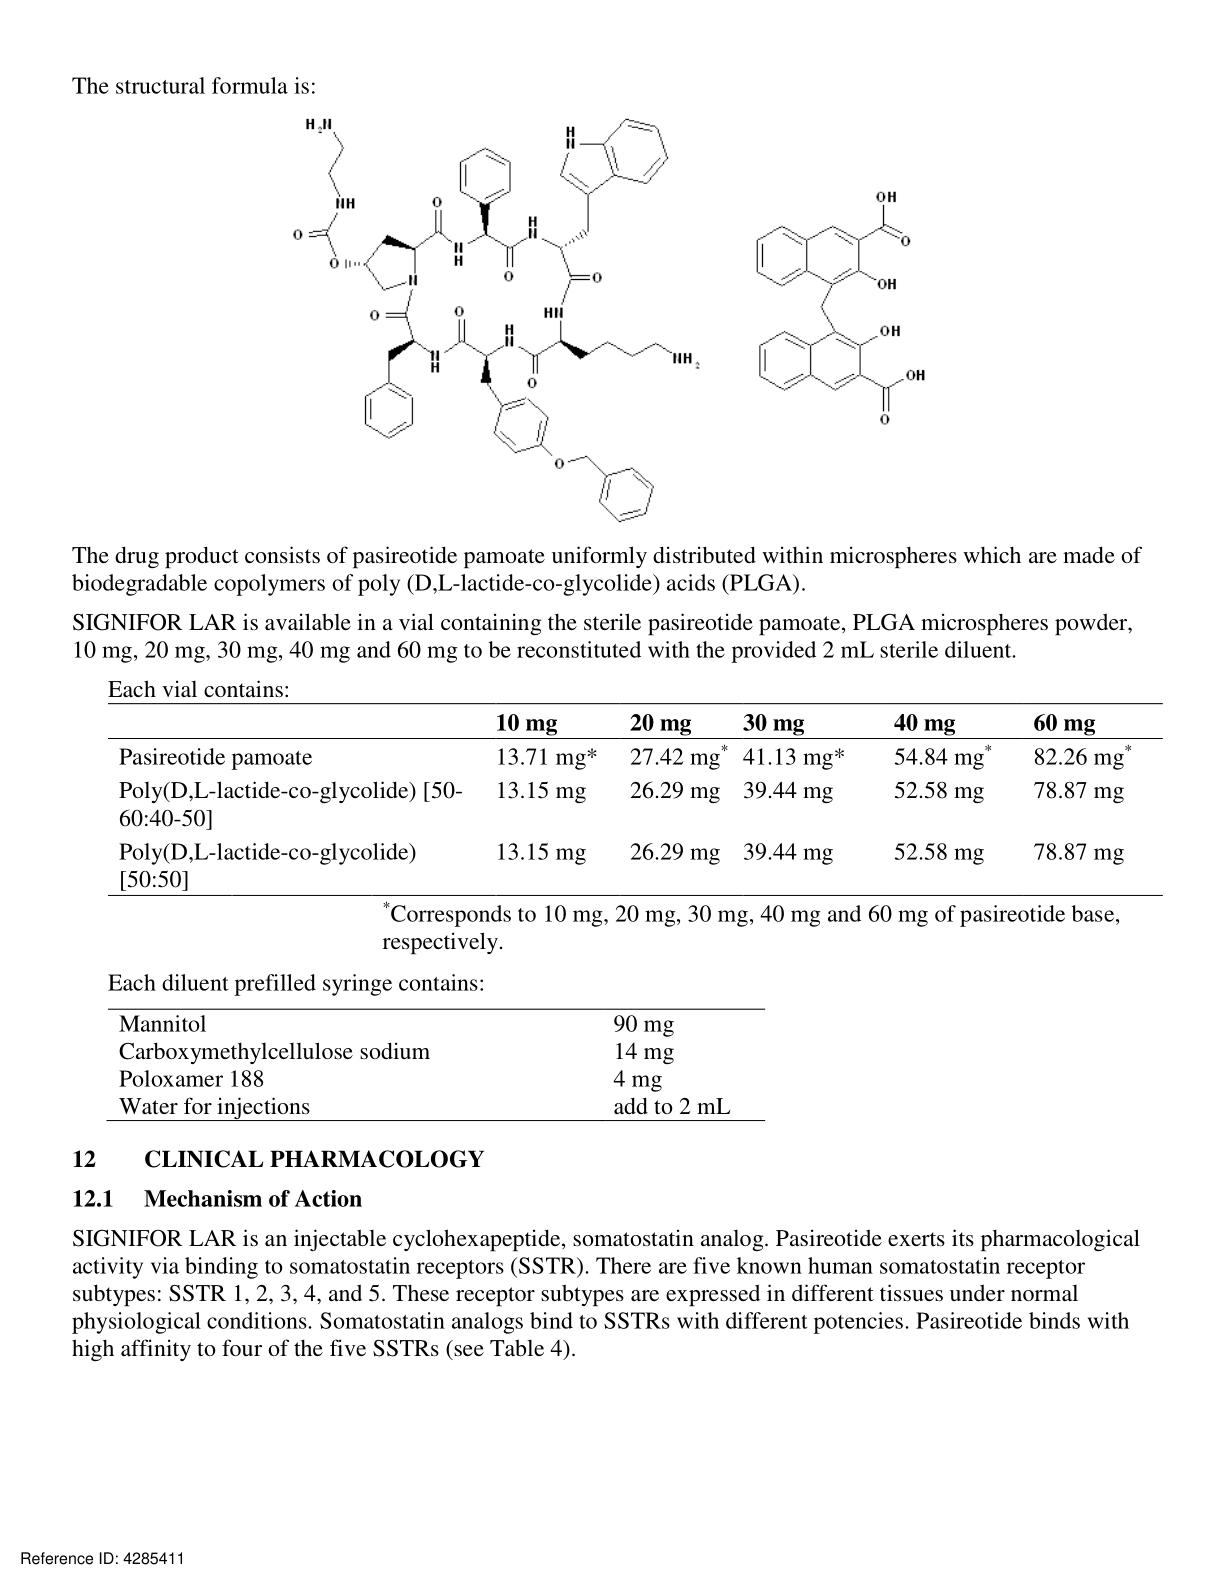partial_lined: (105, 702, 1164, 897), (105, 1007, 768, 1122)
